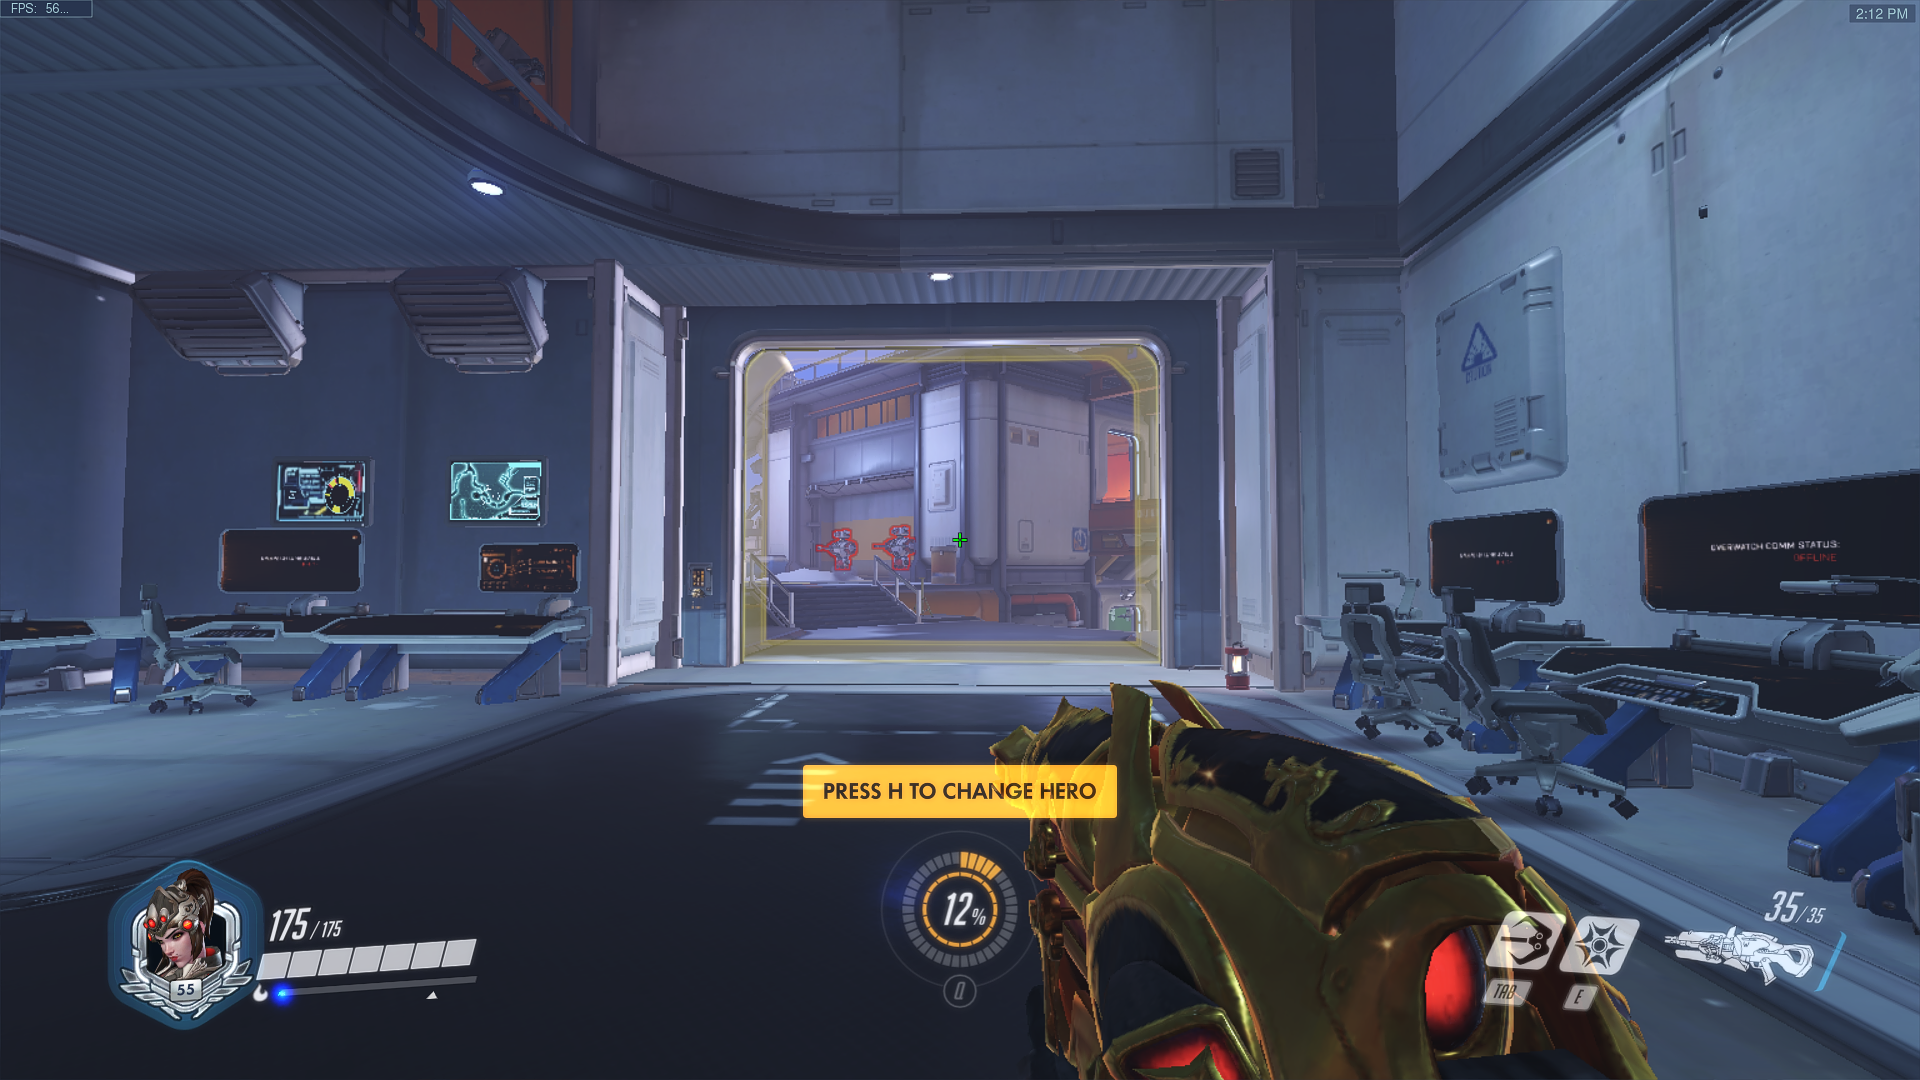head: (889, 526, 915, 544), (830, 529, 854, 543)
